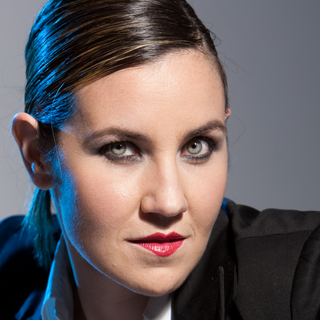eye: (172, 135, 221, 163), (93, 139, 143, 164)
